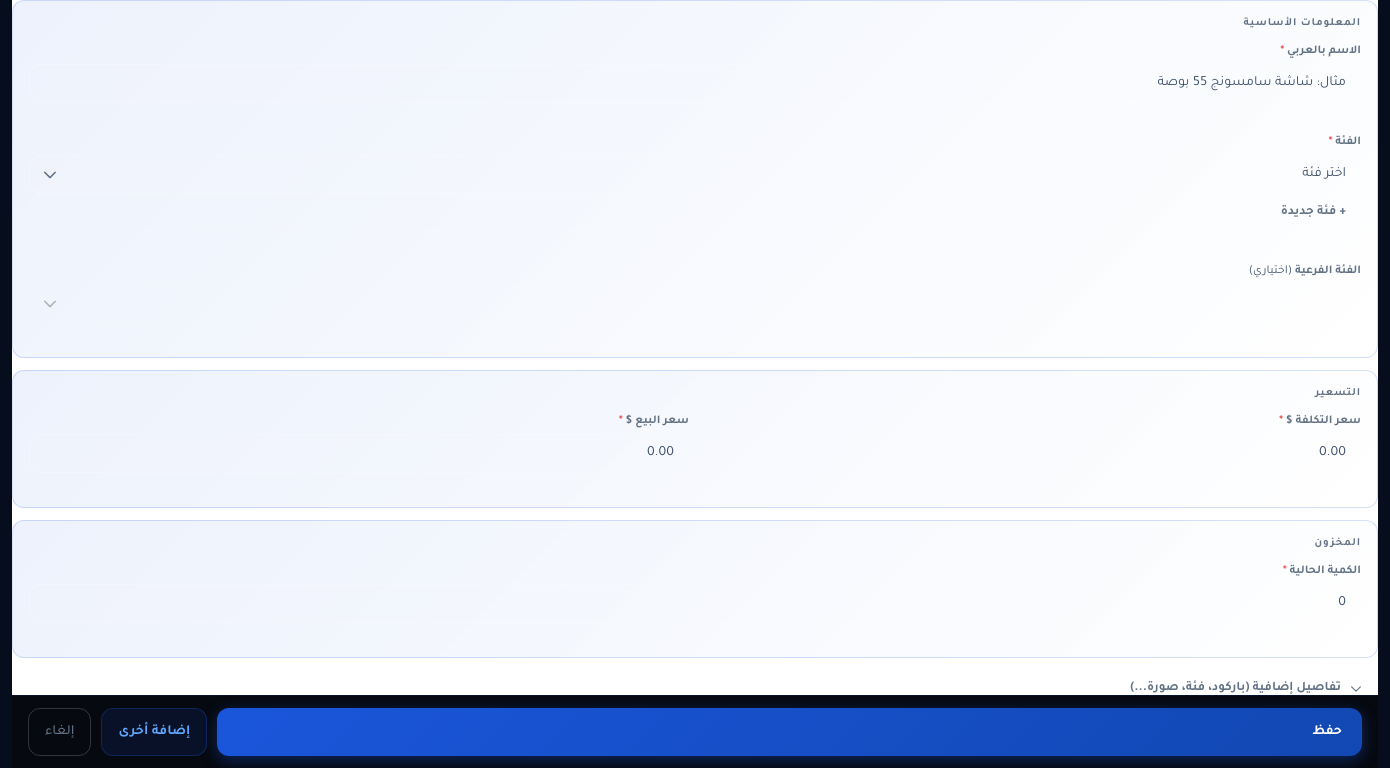
Test: ProductForm › shows required-field error for empty Arabic name on save
Click the button with test id "save-btn".
click(1327, 732)  # box left=217, top=708, right=1362, bottom=756
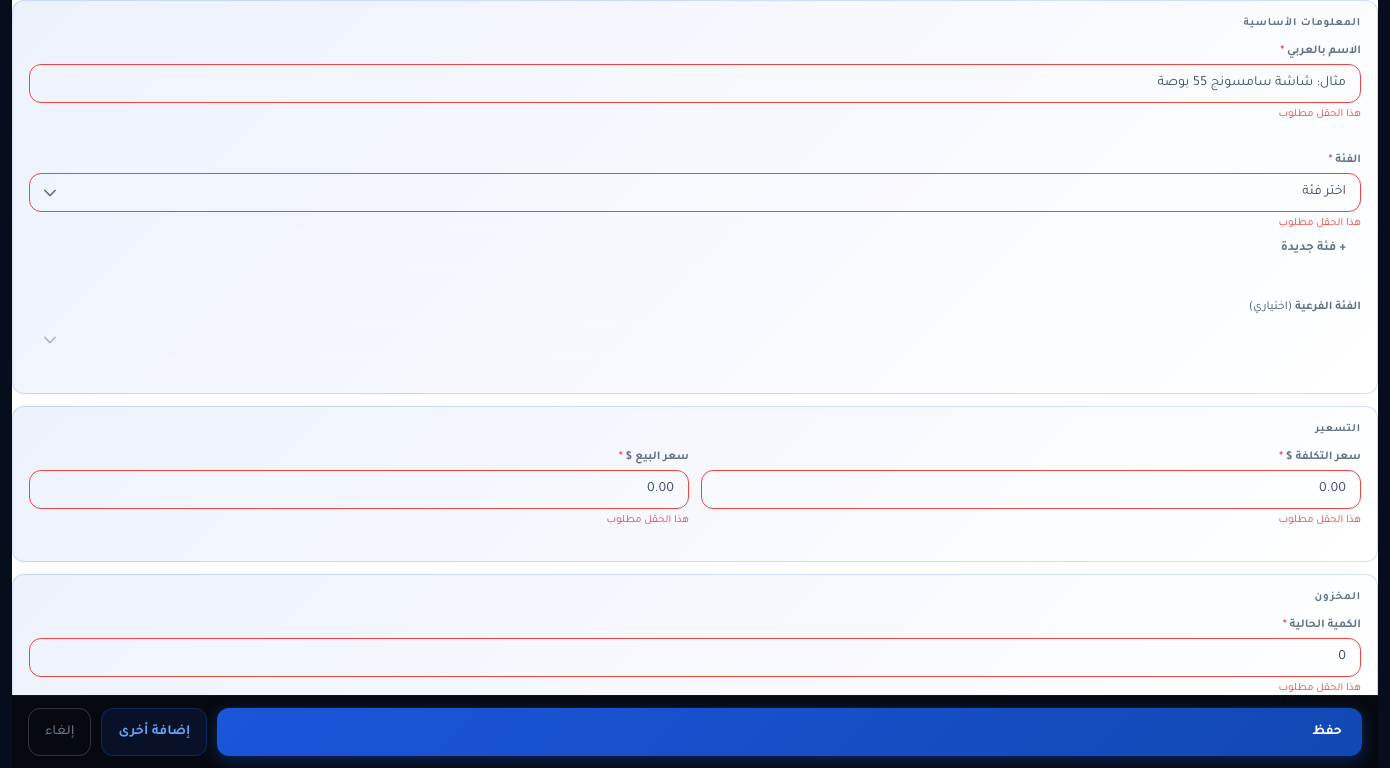
Expected: the text with test id "error-name-ar" is shown, left=1278, top=109, right=1361, bottom=120
